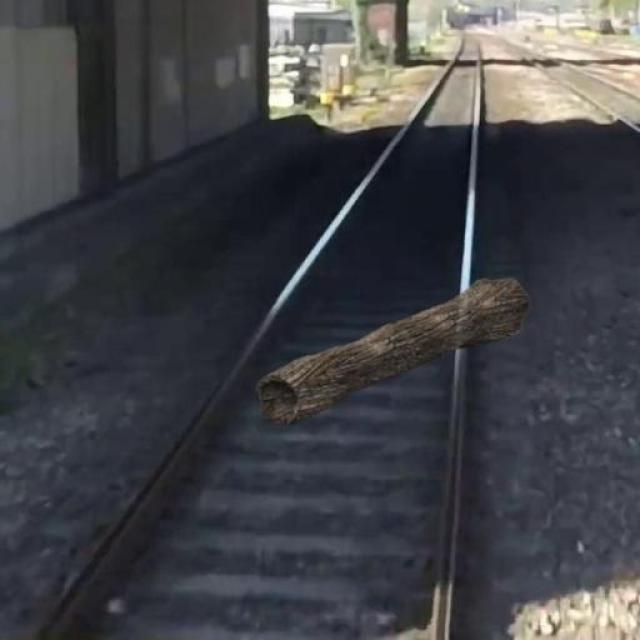Branches: (245, 266, 536, 419)
